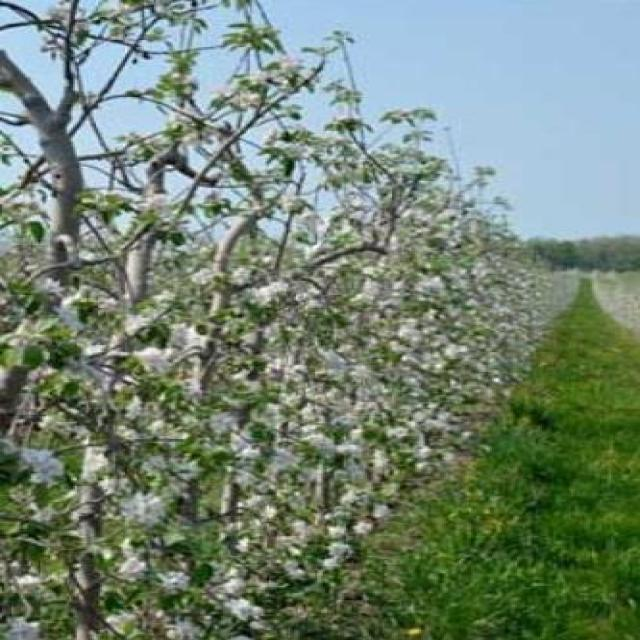row: (252, 278, 640, 640)
